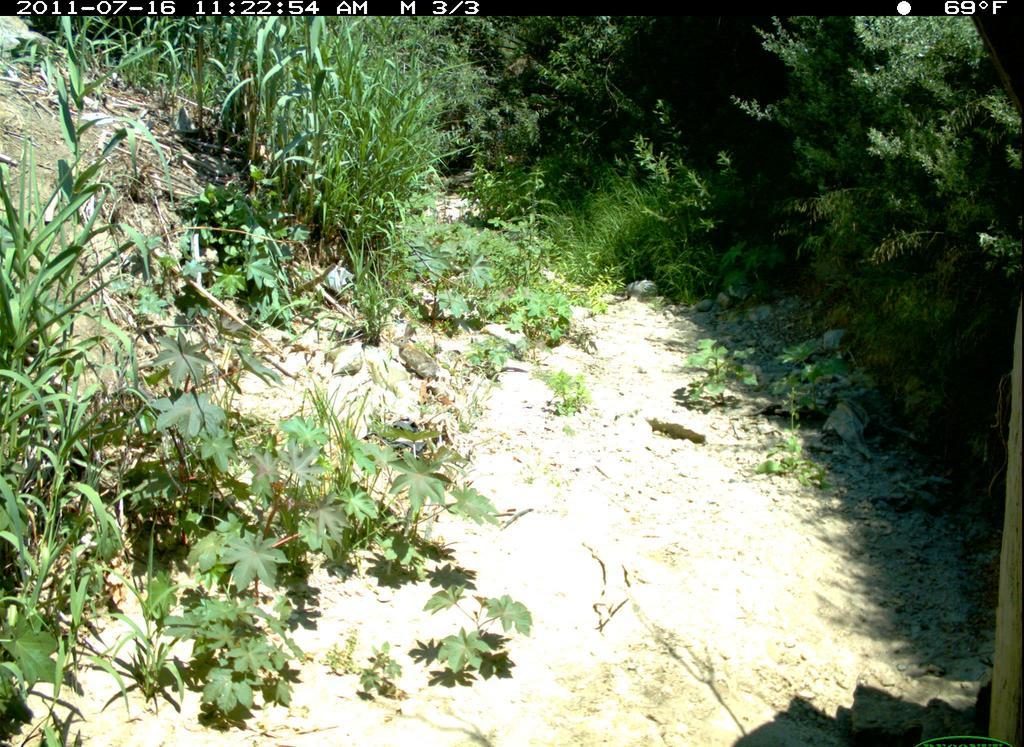rabbit: (385, 314, 451, 396)
